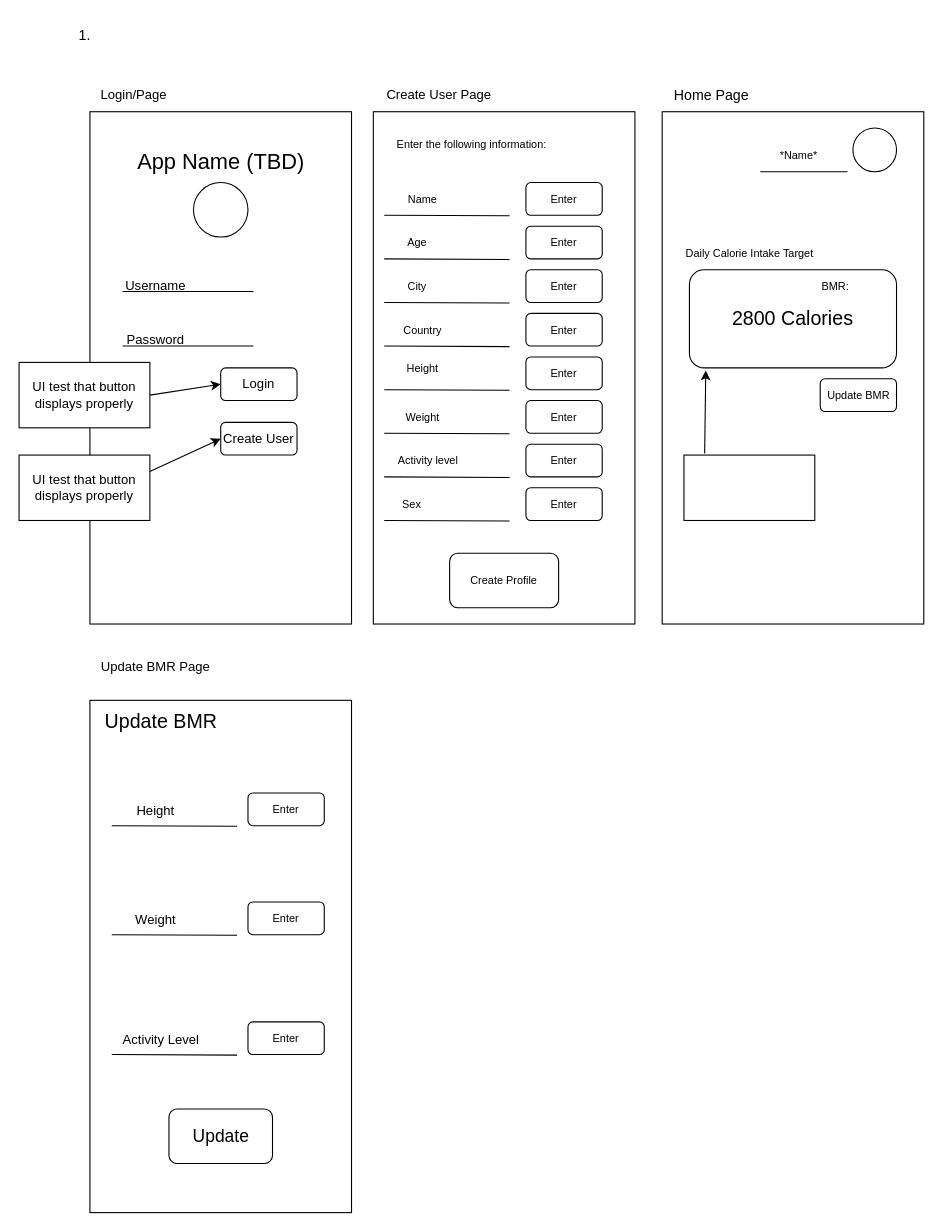
Some shapes in this 943 by 1232 pixel diagram are drawn without their labels. The centre of each missing label's shape, as x and y in pixels:
Logo: the point at 220,209
Unit tests test that calories displayed are accurate: the point at 749,487
User picture: the point at 874,149
